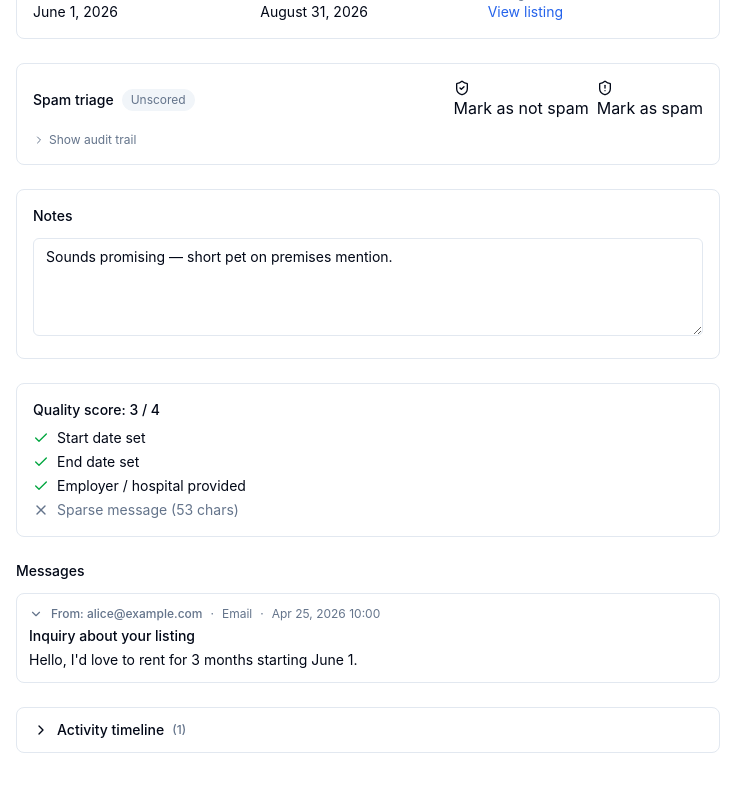
it: InquiryDetail page › renders events chronologically in the timeline (after expanding)
The image size is (737, 809).
(page scrolled)
What coordinates should you click on to do the following:
click the button "Activity timeline (1)"
I would click on:
 (111, 730)
Its box is [17,708,719,752].
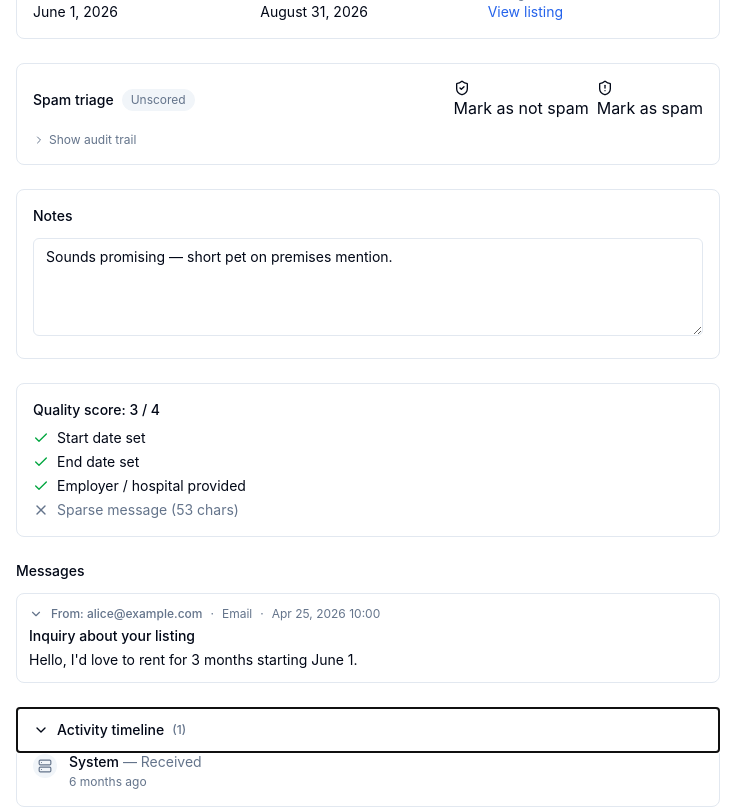
Now the element with test id "inquiry-event-timeline" shows "Received", box [141,753,202,770]
Now the element with test id "inquiry-event-timeline" shows "System", box [69,753,119,770]
